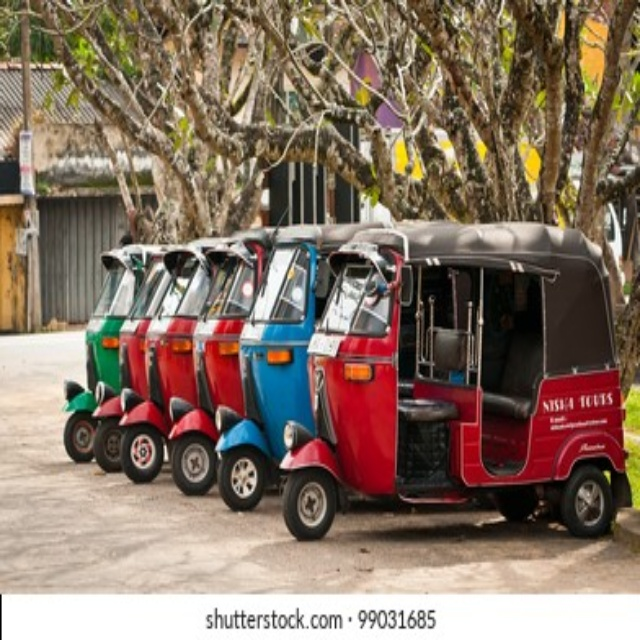Motorcycle: (278, 222, 632, 542), (212, 224, 351, 512), (167, 229, 273, 494), (119, 233, 211, 485), (60, 242, 160, 462), (90, 242, 168, 471)
